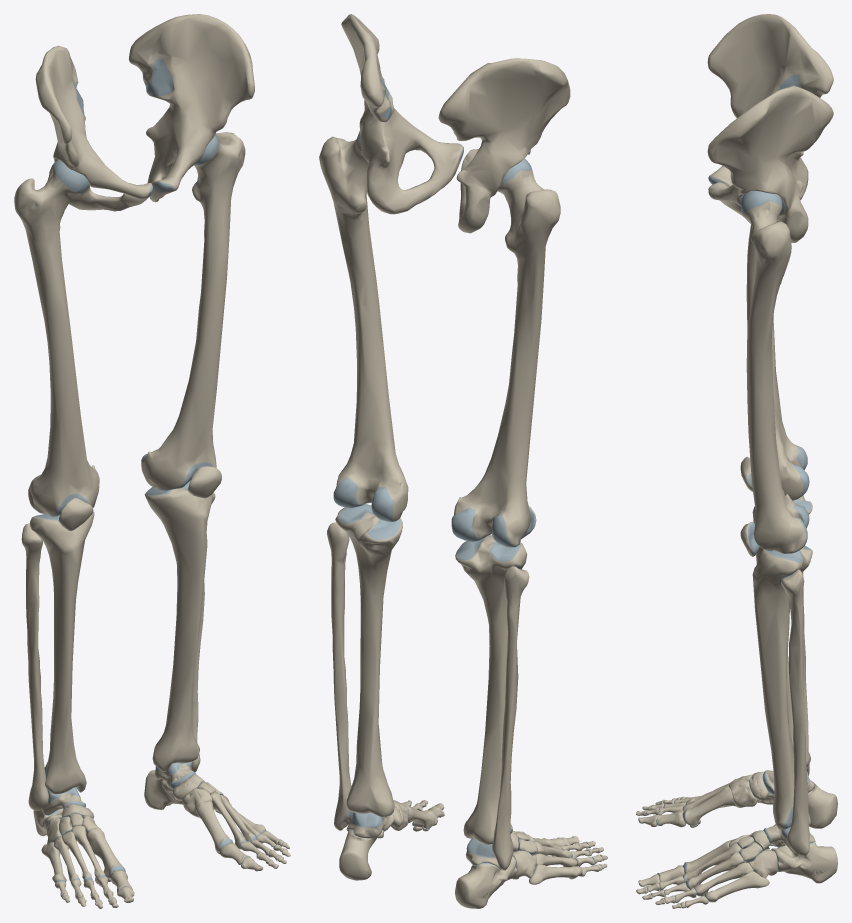
File: bones-lower-limb.glb
3 views of the same model, side by side, from view 1: azimuth 30°, elevation 25°; view 2: azimuth 150°, elevation 25°; view 3: azimuth 270°, elevation 25° (orthographic). The views are drawn at different scales.
Visible parts, largest first — view 1: bone-hip-bone-l, bone-femur-r, bone-femur-l, bone-tibia-l, bone-tibia-r, bone-hip-bone-r, bone-fibula-r, bone-calcaneus-l, bone-first-metatarsal-bone-r, bone-patella-l, bone-fibula-l, bone-first-metatarsal-bone-l (+3 smaller); view 2: bone-femur-r, bone-femur-l, bone-hip-bone-r, bone-tibia-l, bone-hip-bone-l, bone-tibia-r, bone-fibula-l, bone-fibula-r, bone-calcaneus-r, bone-calcaneus-l, bone-talus-l, bone-fifth-metatarsal-bone-r (+1 smaller); view 3: bone-femur-l, bone-hip-bone-l, bone-hip-bone-r, bone-tibia-l, bone-fibula-l, bone-femur-r, bone-calcaneus-l, bone-calcaneus-r, bone-first-metatarsal-bone-r, bone-fifth-metatarsal-bone-l, bone-tibia-r, bone-fourth-metatarsal-bone-l (+7 smaller).
Boxes of the visible parts, x1=… form: bone-hip-bone-l: x1=128, y1=14, x2=254, y2=202; bone-femur-r: x1=14, y1=159, x2=99, y2=516; bone-femur-l: x1=141, y1=132, x2=245, y2=490; bone-tibia-l: x1=144, y1=480, x2=213, y2=771; bone-tibia-r: x1=30, y1=511, x2=94, y2=794; bone-hip-bone-r: x1=35, y1=45, x2=152, y2=211; bone-fibula-r: x1=21, y1=523, x2=48, y2=810; bone-calcaneus-l: x1=144, y1=770, x2=182, y2=809; bone-first-metatarsal-bone-r: x1=86, y1=827, x2=125, y2=878; bone-patella-l: x1=187, y1=466, x2=221, y2=498; bone-fibula-l: x1=191, y1=492, x2=215, y2=772; bone-first-metatarsal-bone-l: x1=196, y1=801, x2=233, y2=851; bone-femur-r: x1=451, y1=158, x2=560, y2=547; bone-femur-l: x1=319, y1=131, x2=408, y2=521; bone-hip-bone-r: x1=438, y1=58, x2=570, y2=233; bone-tibia-l: x1=335, y1=504, x2=402, y2=816; bone-hip-bone-l: x1=341, y1=14, x2=463, y2=214; bone-tibia-r: x1=455, y1=535, x2=527, y2=844; bone-fibula-l: x1=327, y1=522, x2=353, y2=830; bone-fibula-r: x1=492, y1=566, x2=529, y2=870; bone-calcaneus-r: x1=455, y1=856, x2=516, y2=908; bone-calcaneus-l: x1=339, y1=829, x2=384, y2=880; bone-talus-l: x1=346, y1=812, x2=393, y2=838; bone-fifth-metatarsal-bone-r: x1=529, y1=864, x2=582, y2=884; bone-femur-l: x1=740, y1=190, x2=809, y2=553; bone-hip-bone-l: x1=707, y1=85, x2=833, y2=242; bone-hip-bone-r: x1=707, y1=14, x2=833, y2=199; bone-tibia-l: x1=752, y1=545, x2=812, y2=829; bone-fibula-l: x1=780, y1=569, x2=809, y2=856; bone-femur-r: x1=746, y1=224, x2=809, y2=500; bone-calcaneus-l: x1=771, y1=842, x2=837, y2=883; bone-calcaneus-r: x1=808, y1=783, x2=837, y2=828; bone-first-metatarsal-bone-r: x1=682, y1=786, x2=735, y2=825; bone-fifth-metatarsal-bone-l: x1=705, y1=871, x2=769, y2=902; bone-tibia-r: x1=752, y1=495, x2=812, y2=767; bone-fourth-metatarsal-bone-l: x1=694, y1=862, x2=753, y2=896.
Bounding box in the file's own units: 0.2971 × 1 × 0.2289.
